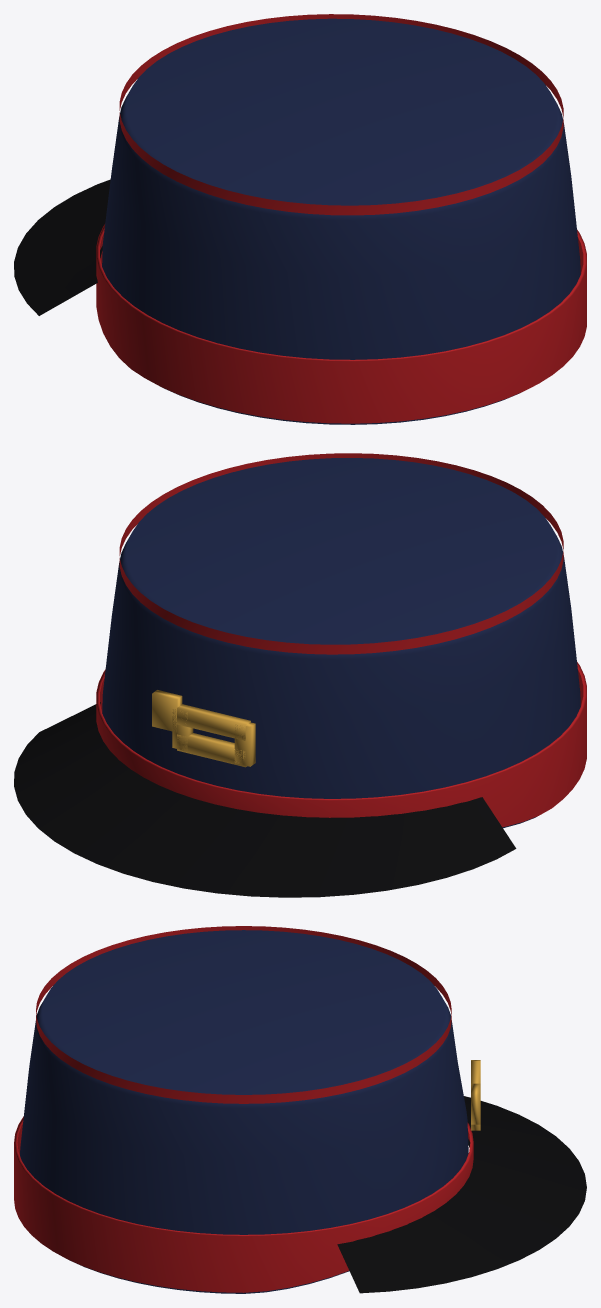
File: postman_kepi.obj
3 views of the same model, one above another, from view 1: azimuth 30°, elevation 25°; view 2: azimuth 150°, elevation 25°; view 3: azimuth 270°, elevation 25° (orthographic). The views are drawn at different scales.
Parts seen in each view (by area): view 1: Body, Band, Visor; view 2: Body, Visor, Band, Brass; view 3: Body, Band, Visor, Brass.
Part boxes in pixels (x1=…): Body: x1=102, y1=18, x2=580, y2=424; Band: x1=96, y1=14, x2=586, y2=423; Visor: x1=14, y1=179, x2=110, y2=315; Body: x1=102, y1=458, x2=580, y2=828; Visor: x1=14, y1=702, x2=516, y2=897; Band: x1=96, y1=453, x2=586, y2=827; Brass: x1=152, y1=690, x2=255, y2=767; Body: x1=20, y1=930, x2=468, y2=1293; Band: x1=14, y1=926, x2=473, y2=1292; Visor: x1=337, y1=1096, x2=586, y2=1293; Brass: x1=471, y1=1060, x2=480, y2=1130.
Size of the model in its own units: 1.53 by 0.65 by 1.75.
